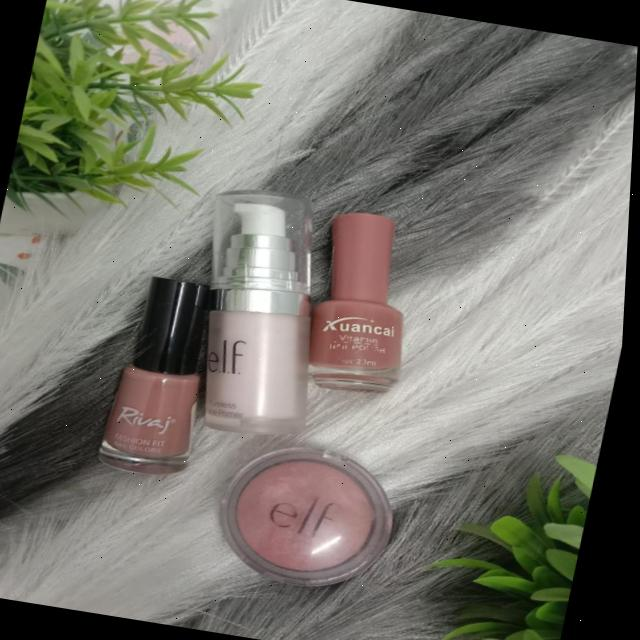blush: (214, 439, 419, 598)
nail polish: (92, 265, 237, 491), (294, 202, 443, 402)
primer: (168, 180, 359, 448)
